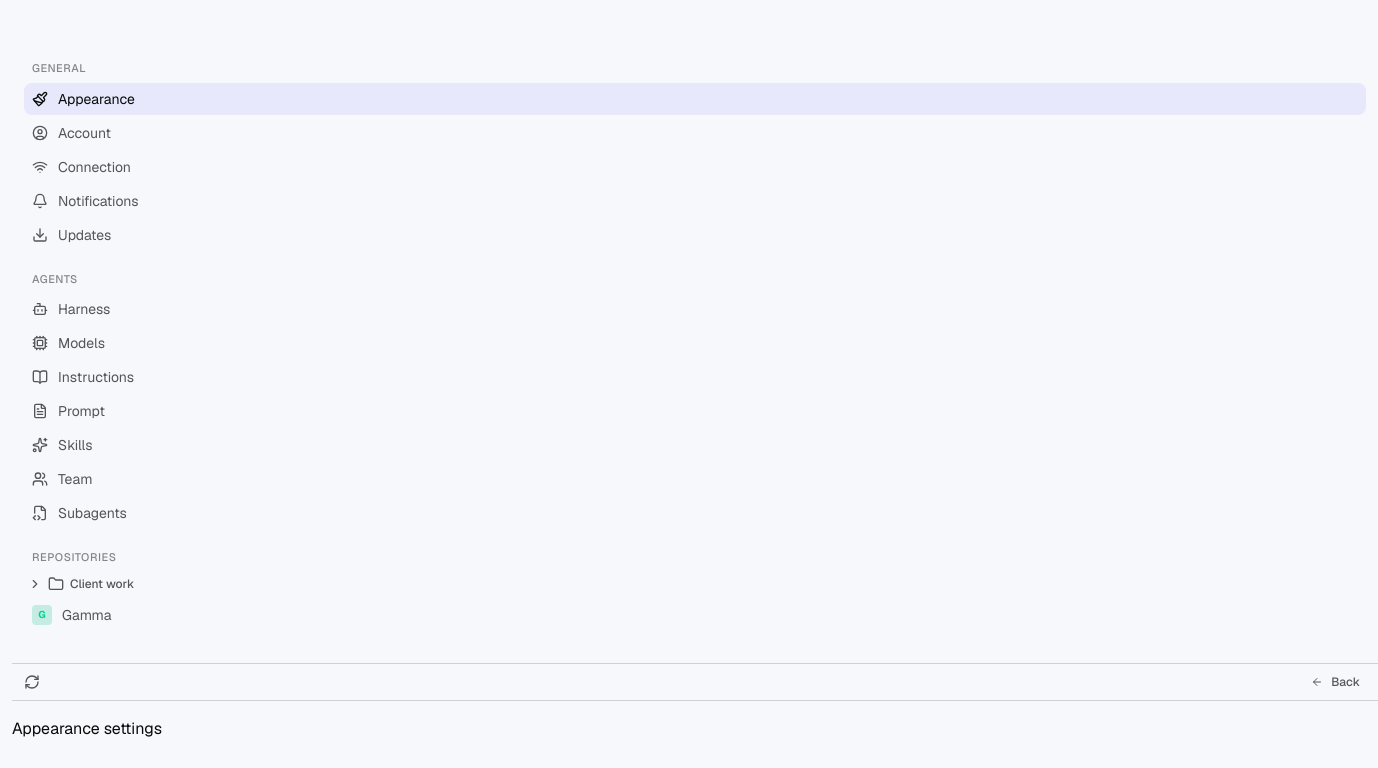
it: SettingsSidebar › navigates to CLI settings
The image size is (1378, 768).
What coordinates should you click on to do the following:
click the link "Harness"
I would click on:
 (71, 309)
Its box is [32,300,110,318].
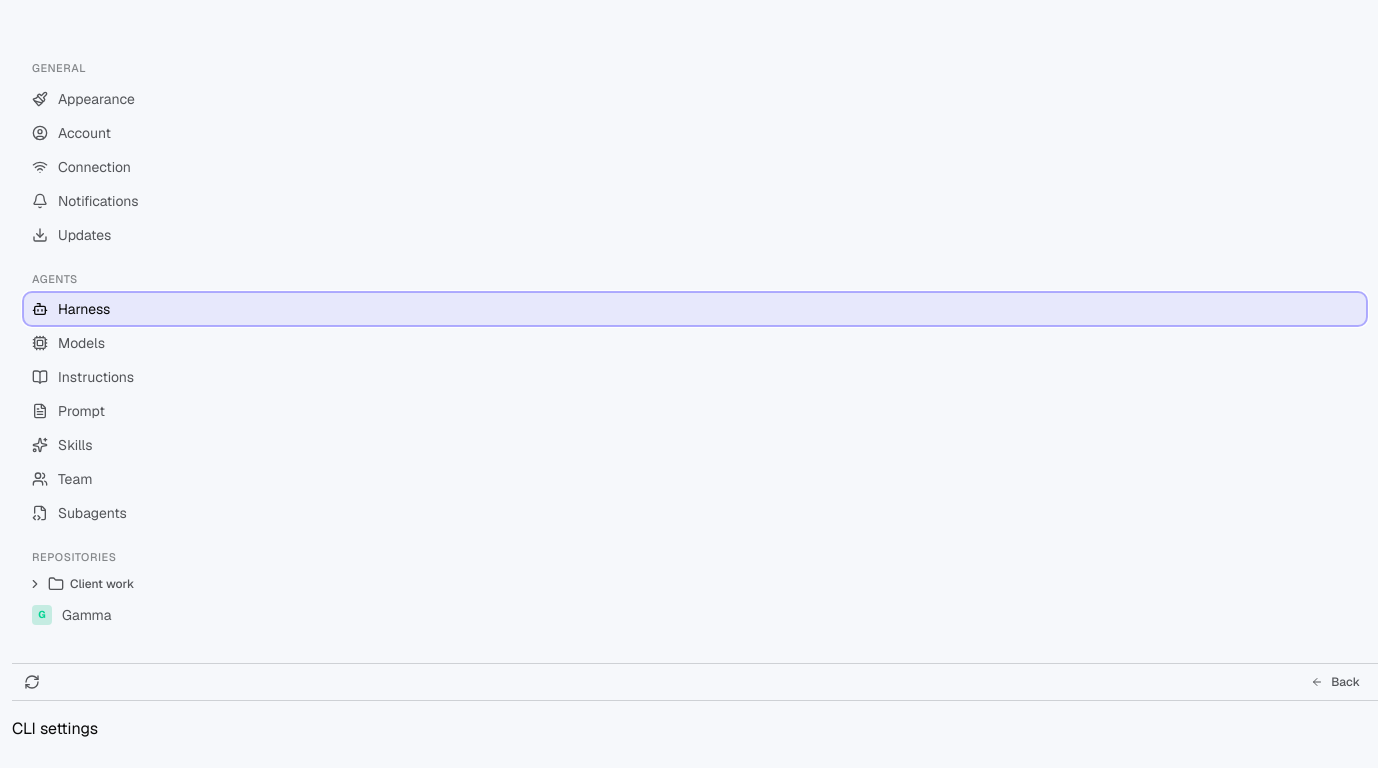
Expected: the text "CLI settings" is shown, [12,718,98,739]
